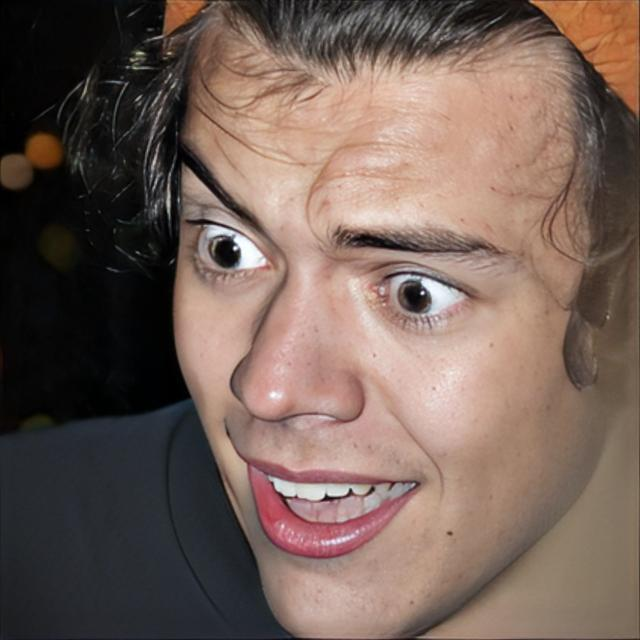surprise: (170, 0, 614, 634)
